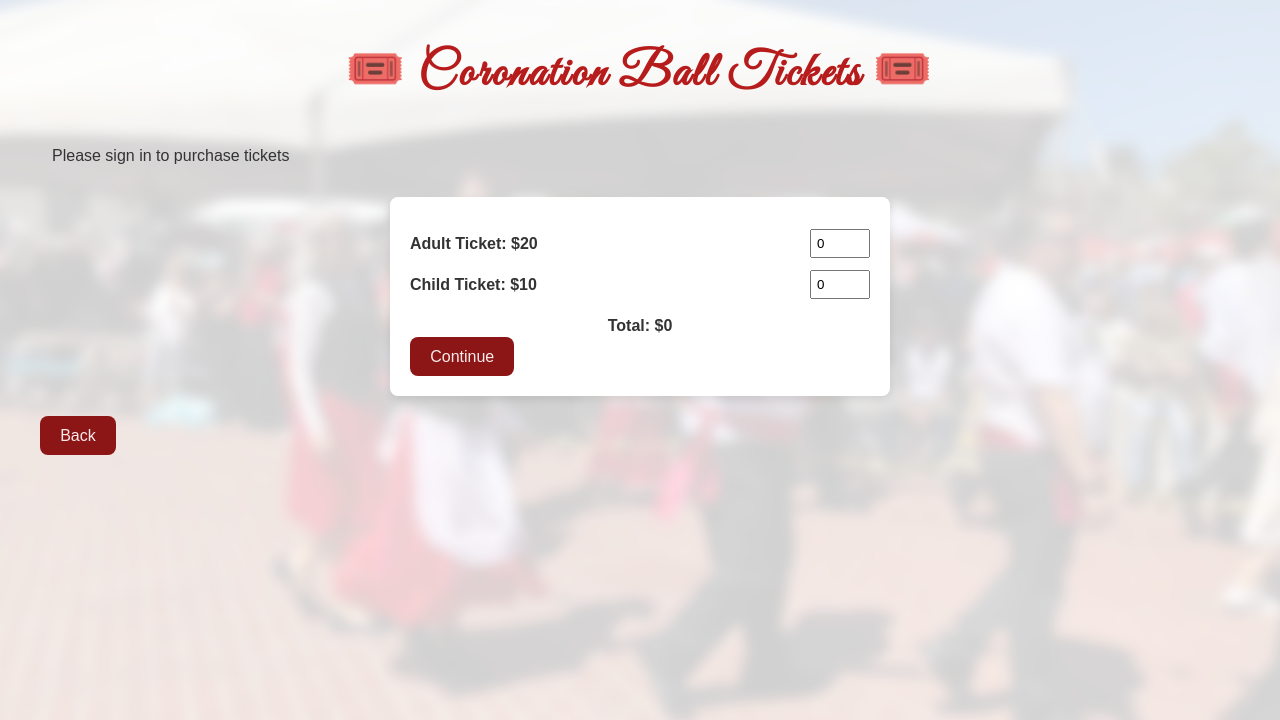
it: CoronationBallTickets (TicketPurchase) › names step rendering › renders one name input per child ticket
Expected: the button "Continue" is shown, [410,337,514,376]
Replace the text in the number field in the row of "Child Ticket: $10" with "2" at (840, 284), box [810,270,870,299]
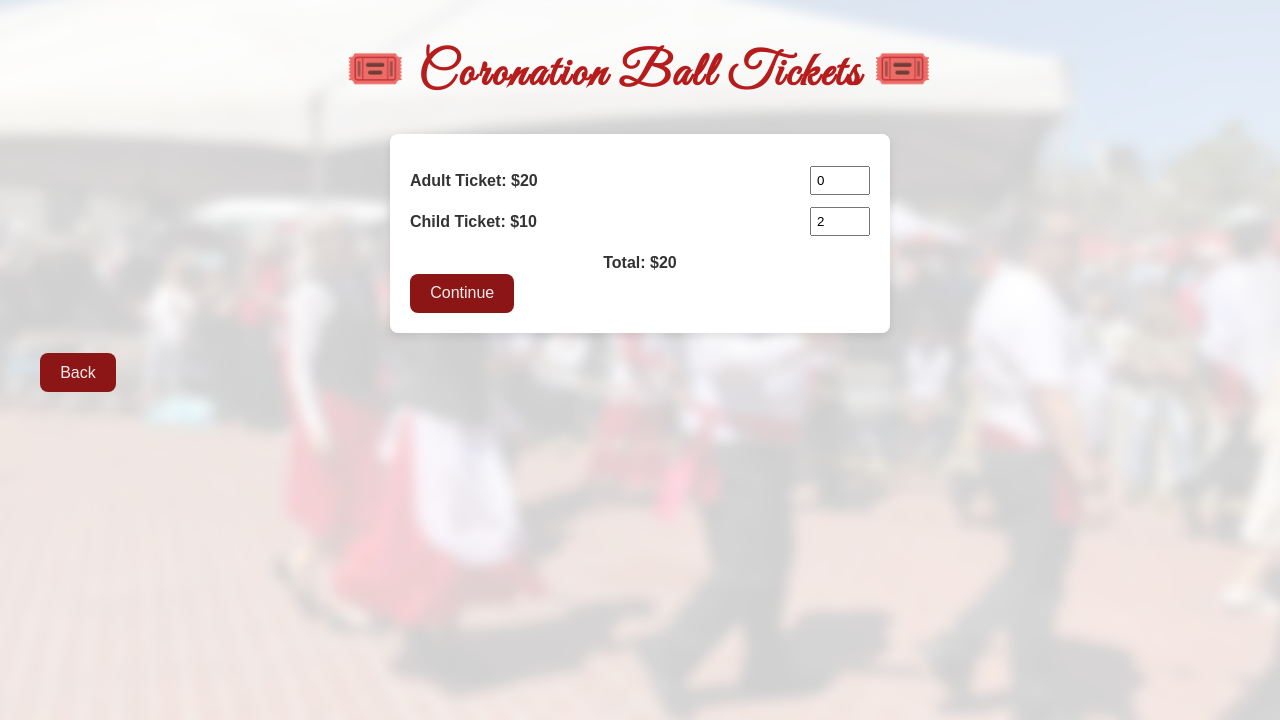
Click the button "Continue" at (462, 293), box [410,274,514,313]
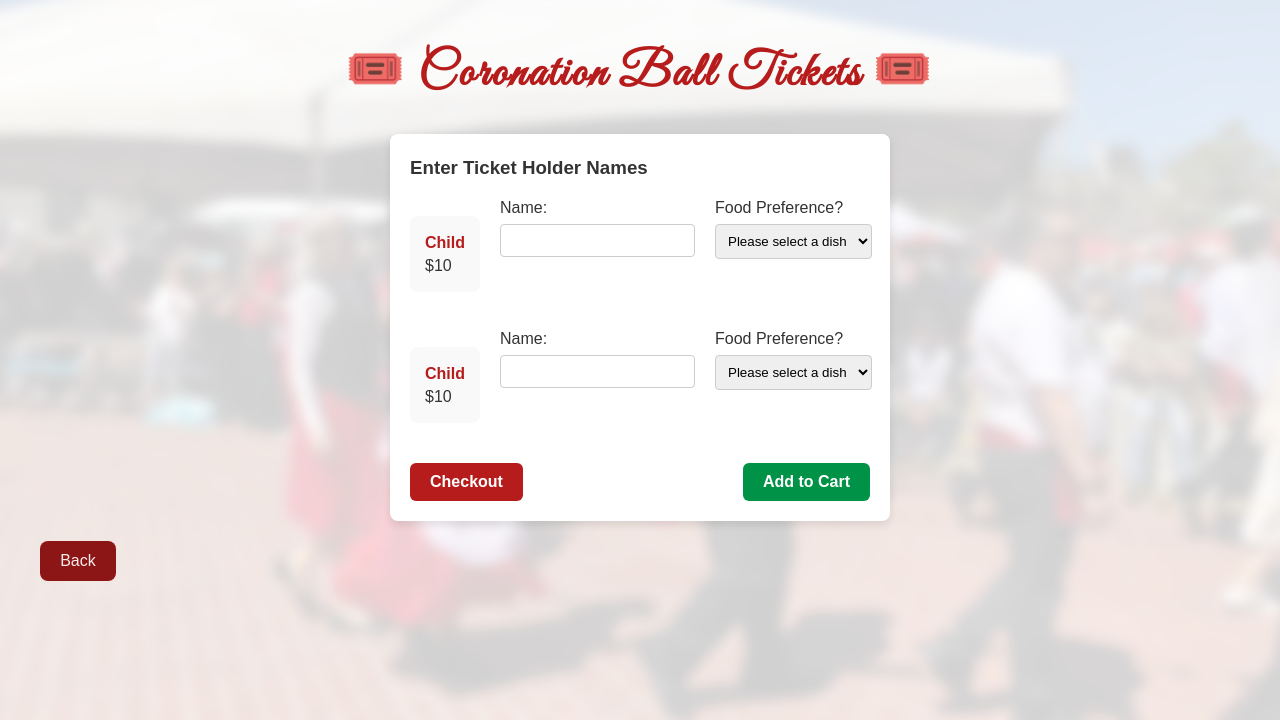
Expected: the heading "Enter Ticket Holder Names" is shown, [410,157,648,178]
Expected: the number of fields with placeholder "Enter name" is 2, [500,224,695,257]; [500,355,695,388]
